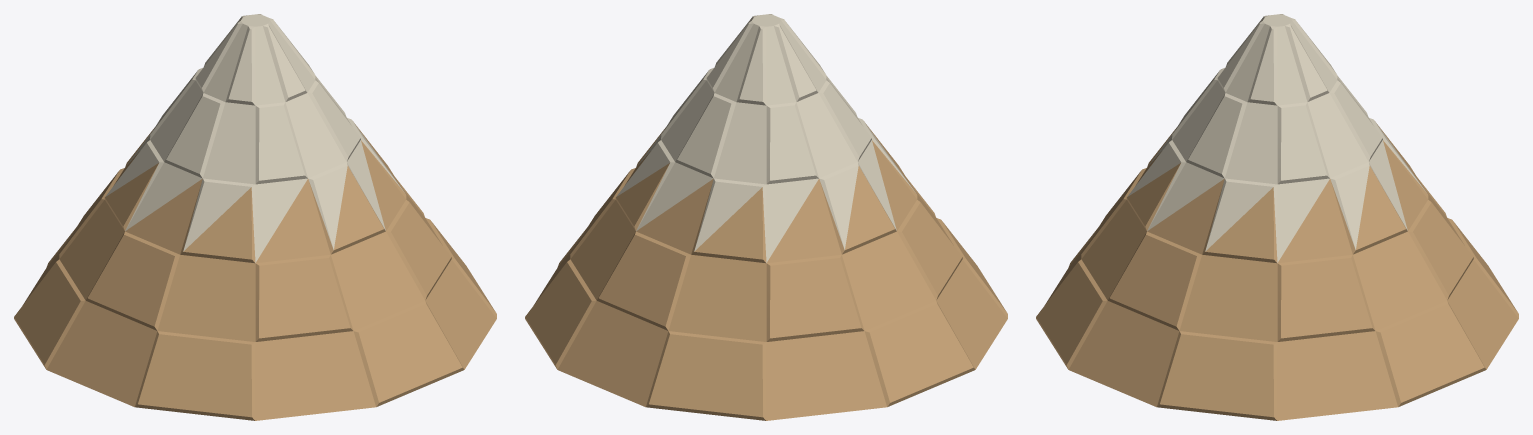
File: Cosmetic_IceCreamCone.glb
3 views of the same model, side by side, from view 1: azimuth 30°, elevation 25°; view 2: azimuth 150°, elevation 25°; view 3: azimuth 270°, elevation 25° (orthographic).
Visible parts, largest first — view 1: Cosmetic_IceCreamCone_Merged; view 2: Cosmetic_IceCreamCone_Merged; view 3: Cosmetic_IceCreamCone_Merged.
Part boxes in pixels (left/top/right/bottom): Cosmetic_IceCreamCone_Merged: left=14, top=14, right=496, bottom=420; Cosmetic_IceCreamCone_Merged: left=525, top=14, right=1007, bottom=420; Cosmetic_IceCreamCone_Merged: left=1036, top=14, right=1518, bottom=420.
Size of the model in its own units: 1.32 by 0.9 by 1.32.
